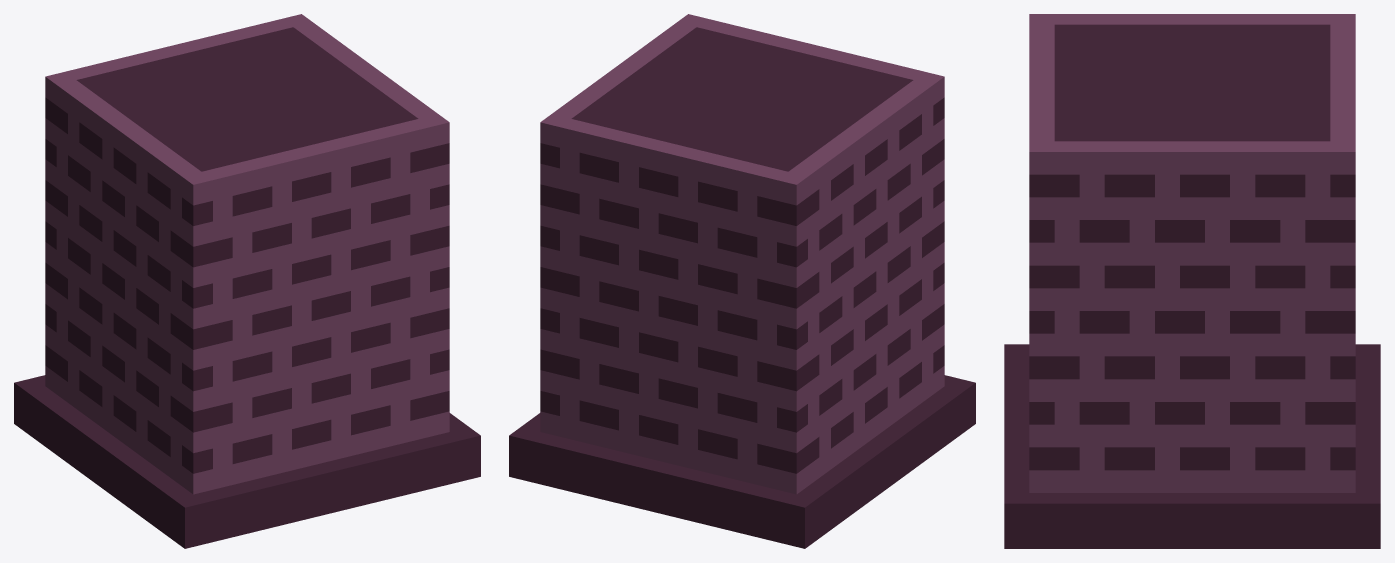
The model's file is dungeon_c_b_inner_wall_solo.obj.
The picture shows the model from 3 angles, left to right: view 1: azimuth 30°, elevation 25°; view 2: azimuth 150°, elevation 25°; view 3: azimuth 270°, elevation 25°; orthographic projection. The views are drawn at different scales.
Size of the model in its own units: 1.5 by 1.7 by 1.5.
Materials: 1 (1 with a texture image).
